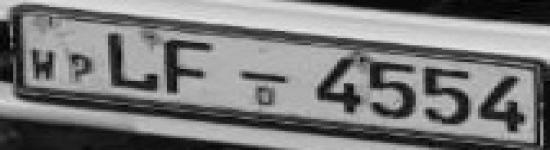-: (234, 67, 292, 88)
4: (476, 73, 530, 137), (312, 54, 367, 116)
5: (419, 62, 478, 130), (367, 55, 421, 124)
F: (160, 32, 218, 99)
L: (102, 29, 163, 94)
P: (64, 50, 94, 84)
W: (28, 47, 58, 82)
